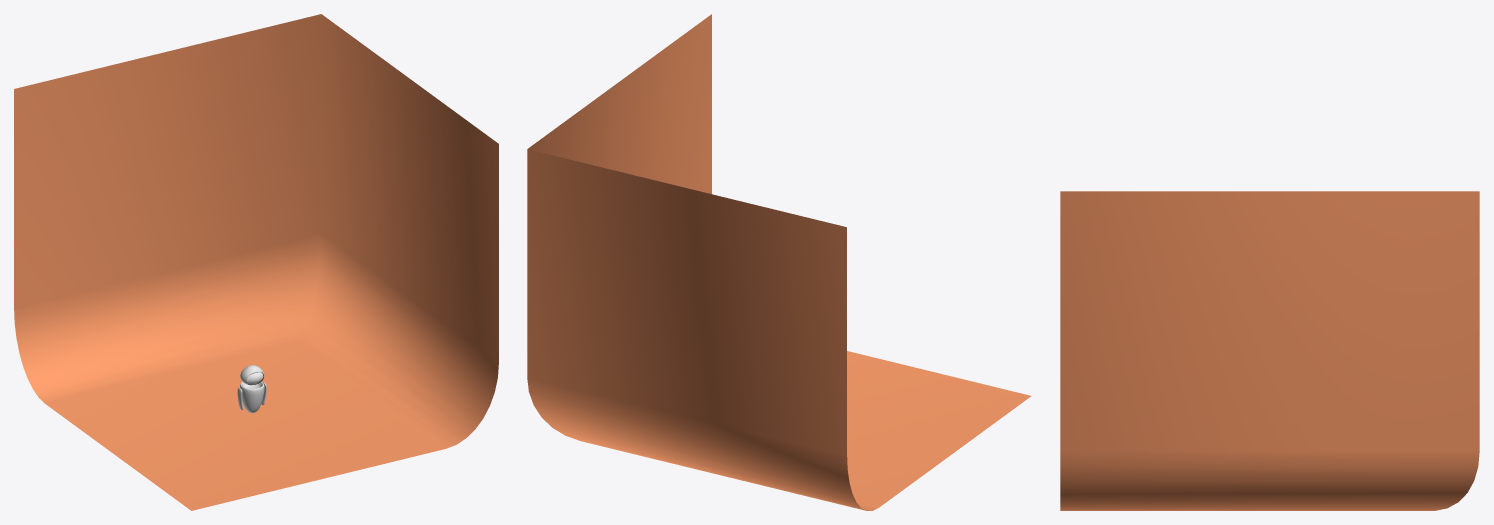
The model's file is robot.glb.
The picture shows the model from 3 angles, left to right: view 1: azimuth 30°, elevation 25°; view 2: azimuth 150°, elevation 25°; view 3: azimuth 270°, elevation 25°; orthographic projection. The views are drawn at different scales.
Visible parts, largest first — view 1: Plane.001, Backup body.001; view 2: Plane.001; view 3: Plane.001.
Boxes of the visible parts, x1=… form: Plane.001: x1=14, y1=14, x2=498, y2=510; Backup body.001: x1=237, y1=365, x2=266, y2=413; Plane.001: x1=527, y1=14, x2=1031, y2=510; Plane.001: x1=1060, y1=191, x2=1479, y2=510.
Size of the model in its own units: 29.69 by 26.96 by 29.69.
